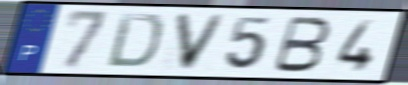4: (334, 19, 376, 74)
5: (220, 16, 276, 72)
7: (63, 8, 110, 72)
B: (270, 14, 334, 74)
D: (104, 11, 166, 71)
V: (173, 12, 230, 73)
